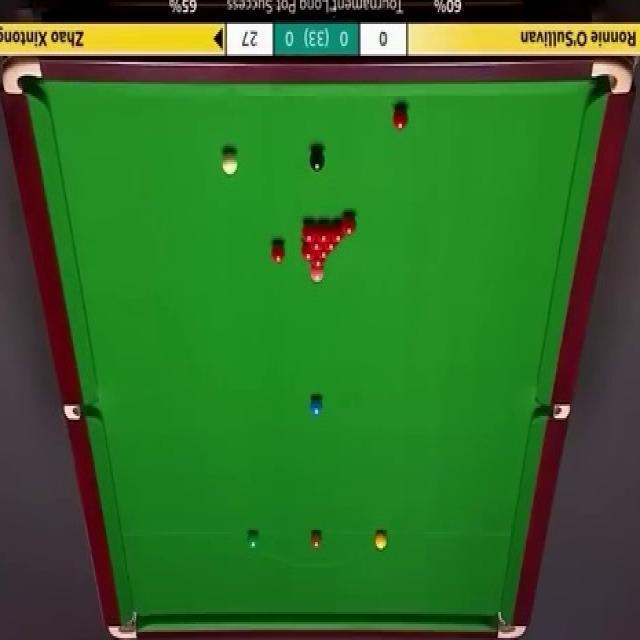black-ball: (308, 146, 326, 172)
blue-ball: (310, 394, 325, 418)
brown-ball: (310, 532, 322, 552)
green-ball: (247, 530, 260, 551)
pink-ball: (310, 270, 326, 285)
red-ball: (393, 103, 409, 130), (270, 239, 285, 265), (342, 214, 358, 238), (301, 219, 317, 243), (330, 223, 344, 243), (317, 222, 330, 243), (301, 243, 315, 259), (310, 258, 326, 270), (322, 241, 339, 251), (308, 242, 324, 252), (316, 250, 332, 260)
white-ball: (222, 150, 238, 176)
yellow-ball: (375, 530, 387, 550)
